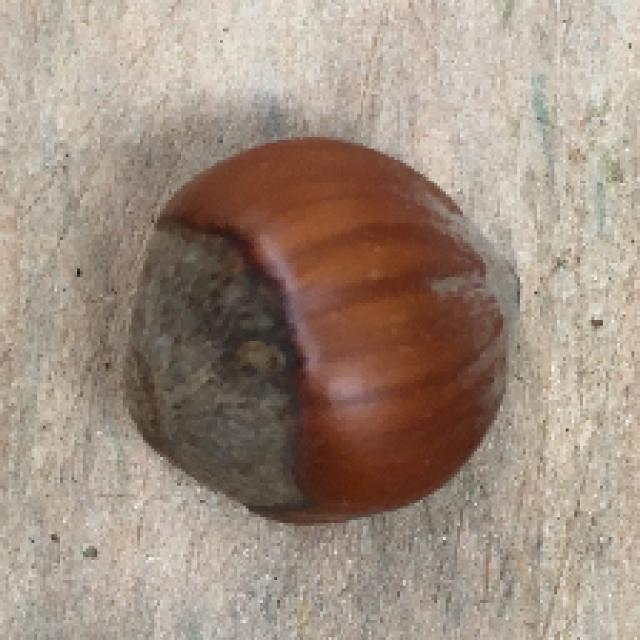qualityHazelnut: (115, 126, 528, 540)
